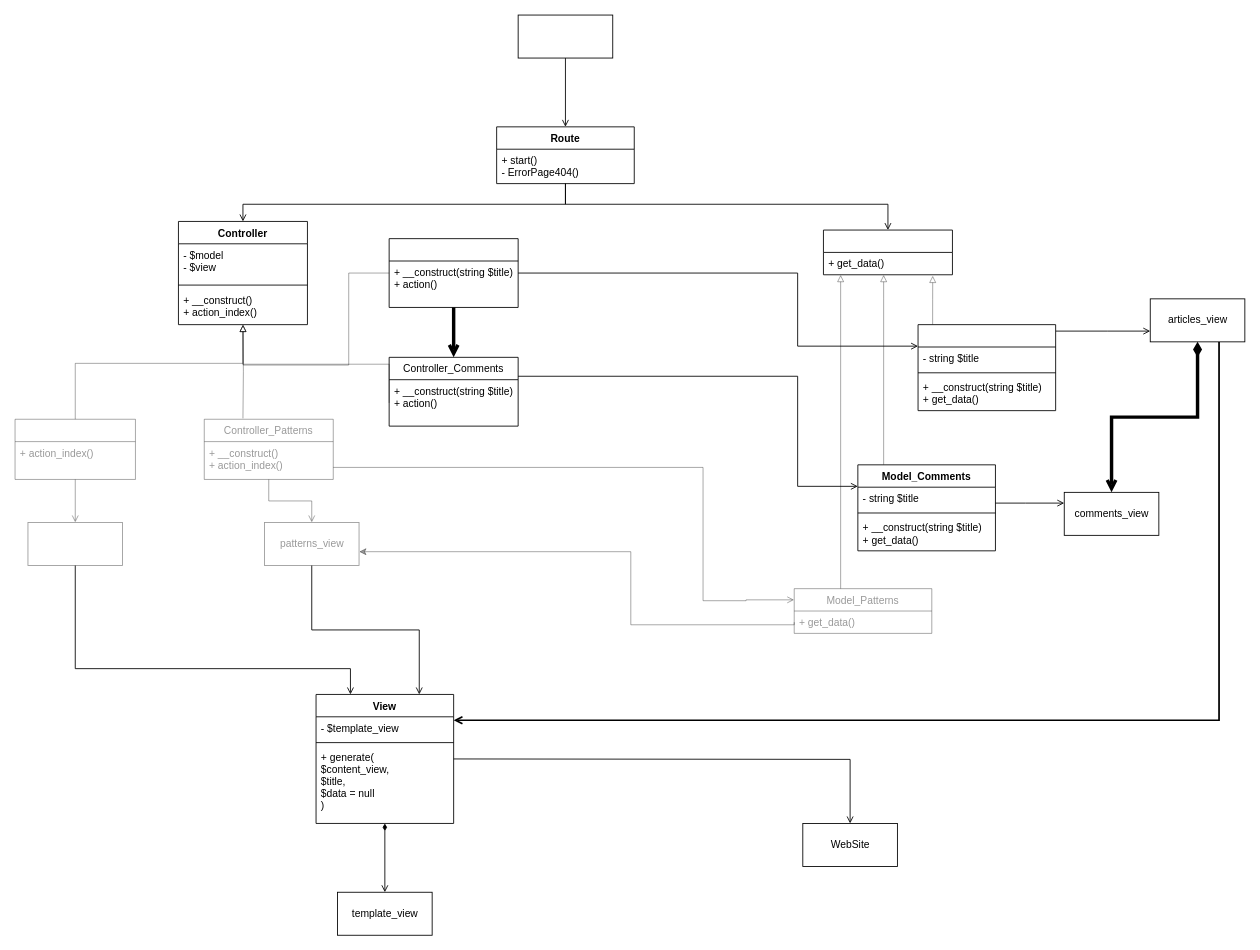
Image size: 1260x950. Some labels were removed from this diagram. The shapes that lost their labels are listed below. From the top down, each one's box as (x1, y1, x2, y2) in pixels, then its label:
(517, 14, 613, 58): URL-запрос
(823, 229, 952, 275): Model
(388, 238, 518, 307): Controller_Articles
(917, 324, 1056, 411): Model_Articles
(14, 418, 135, 479): Controller_Main
(27, 522, 123, 565): main_view
